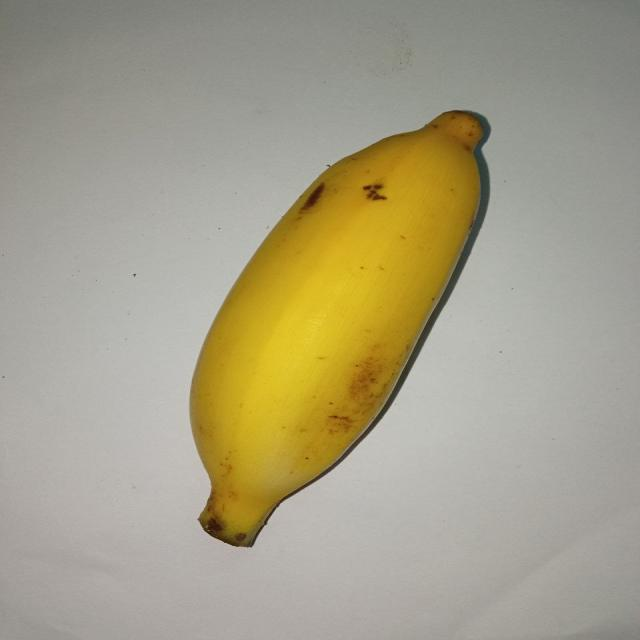fresh_banana: (192, 111, 485, 545)
